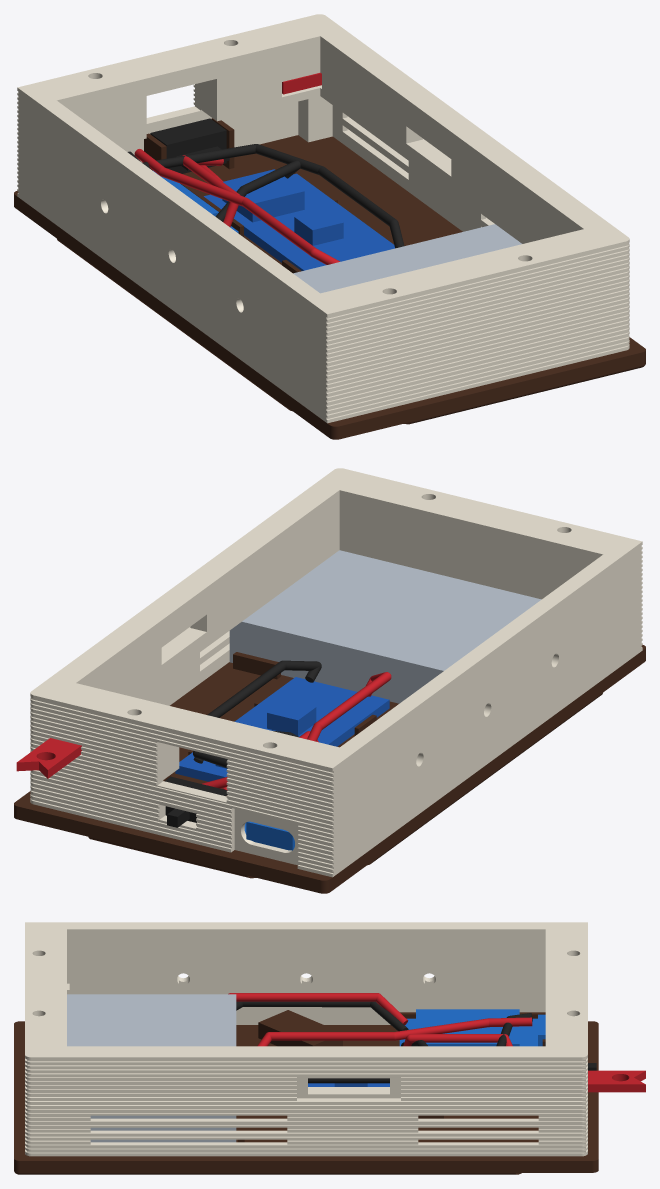
3 views of the same model, one above another, from view 1: azimuth 30°, elevation 25°; view 2: azimuth 150°, elevation 25°; view 3: azimuth 270°, elevation 25° (orthographic). The views are drawn at different scales.
Visible parts, largest first — view 1: sayfa, arka_kapak, ic_yukseltici, ic_pil, ic_kablo_vout_p1_eksi, ic_kablo_vout_p1_arti, ic_anahtar, ic_kablo_out_arti_anahtar, ic_kablo_out_eksi_vin_eksi; view 2: sayfa, ic_pil, arka_kapak, ic_yukseltici, ic_kablo_vout_p1_eksi, kurdele, ic_kablo_vout_p1_arti, ic_tp4056, ic_anahtar; view 3: sayfa, arka_kapak, ic_pil, ic_tp4056, ic_kablo_vout_p1_arti, ic_kablo_pil_arti, kurdele, ic_kablo_pil_eksi, ic_kablo_out_arti_anahtar, ic_kablo_vout_p1_eksi.
Boxes of the visible parts, x1,y1,x2,y2 form: sayfa: (17, 14, 629, 423); arka_kapak: (14, 118, 645, 439); ic_yukseltici: (204, 169, 394, 270); ic_pil: (293, 224, 521, 293); ic_kablo_vout_p1_eksi: (127, 144, 404, 248); ic_kablo_vout_p1_arti: (134, 149, 339, 264); ic_anahtar: (150, 118, 229, 173); ic_kablo_out_arti_anahtar: (182, 155, 239, 227); ic_kablo_out_eksi_vin_eksi: (215, 160, 300, 221); sayfa: (30, 468, 642, 877); ic_pil: (229, 550, 541, 703); arka_kapak: (14, 645, 645, 893); ic_yukseltici: (175, 677, 389, 781); ic_kablo_vout_p1_eksi: (193, 660, 321, 768); kurdele: (16, 738, 81, 778); ic_kablo_vout_p1_arti: (307, 672, 391, 741); ic_tp4056: (244, 821, 294, 850); ic_anahtar: (165, 776, 227, 827); sayfa: (25, 922, 587, 1156); arka_kapak: (14, 1010, 598, 1174); ic_pil: (67, 994, 236, 1142); ic_tp4056: (399, 1009, 545, 1046); ic_kablo_vout_p1_arti: (257, 1017, 532, 1046); ic_kablo_pil_arti: (228, 993, 408, 1025); kurdele: (588, 1070, 645, 1092); ic_kablo_pil_eksi: (236, 1001, 408, 1031); ic_kablo_out_arti_anahtar: (403, 1034, 512, 1046); ic_kablo_vout_p1_eksi: (308, 1013, 532, 1083).
Bounding box in the file's own units: 0.0605 × 0.023 × 0.1156.
